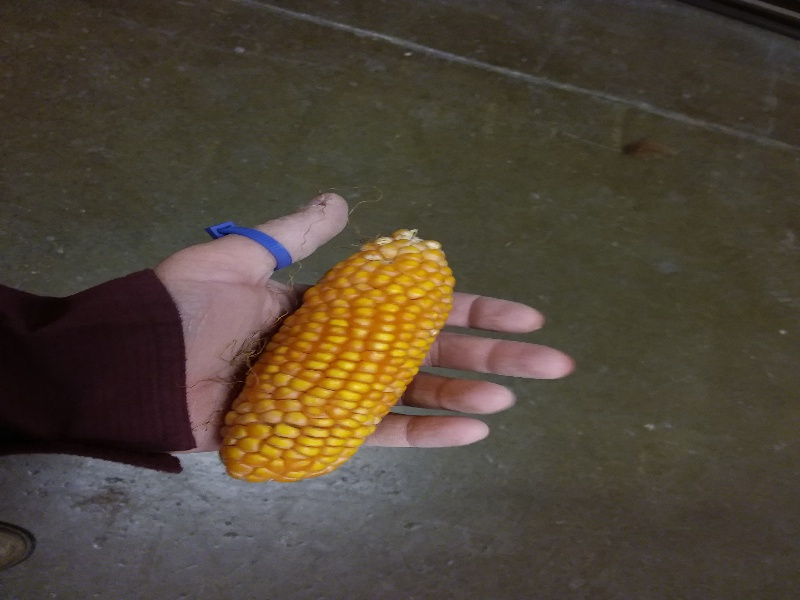band: (203, 220, 295, 272)
ear: (216, 224, 458, 485)
